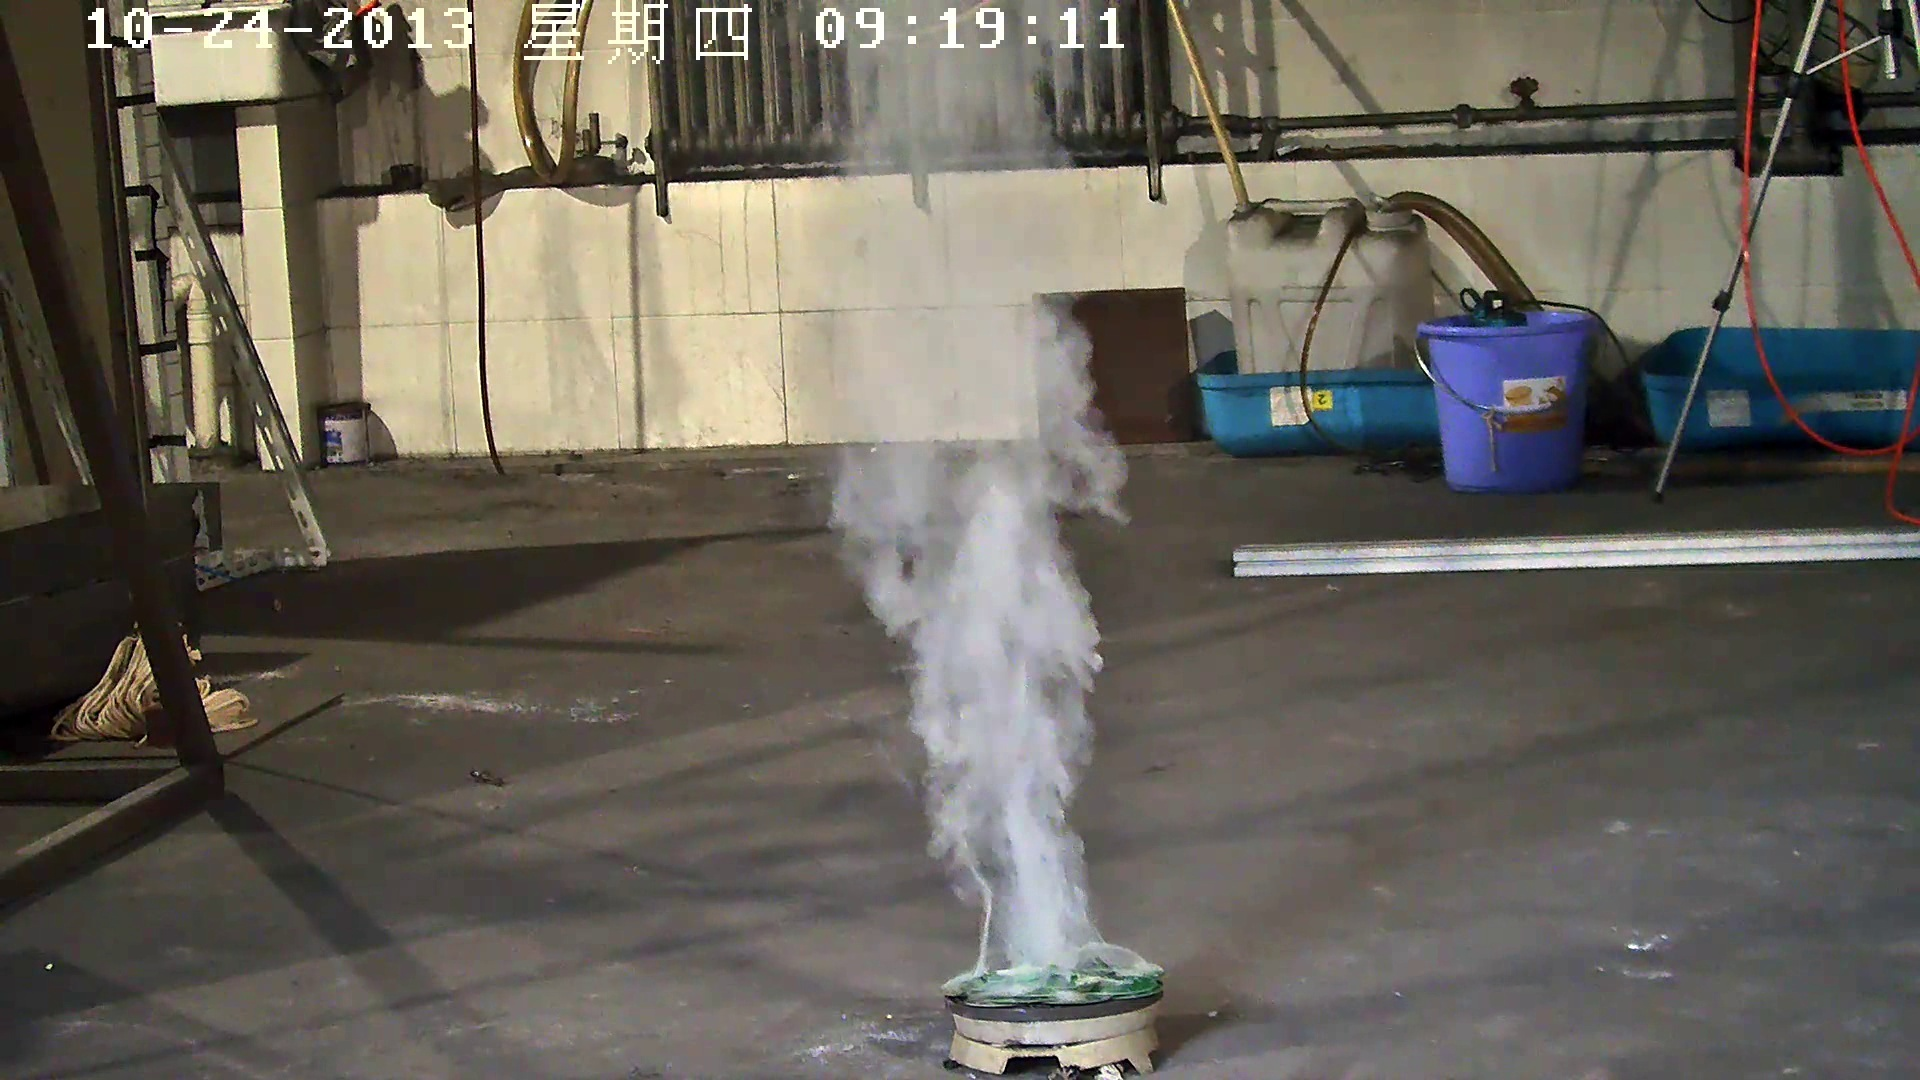smoke: (781, 22, 1167, 996)
